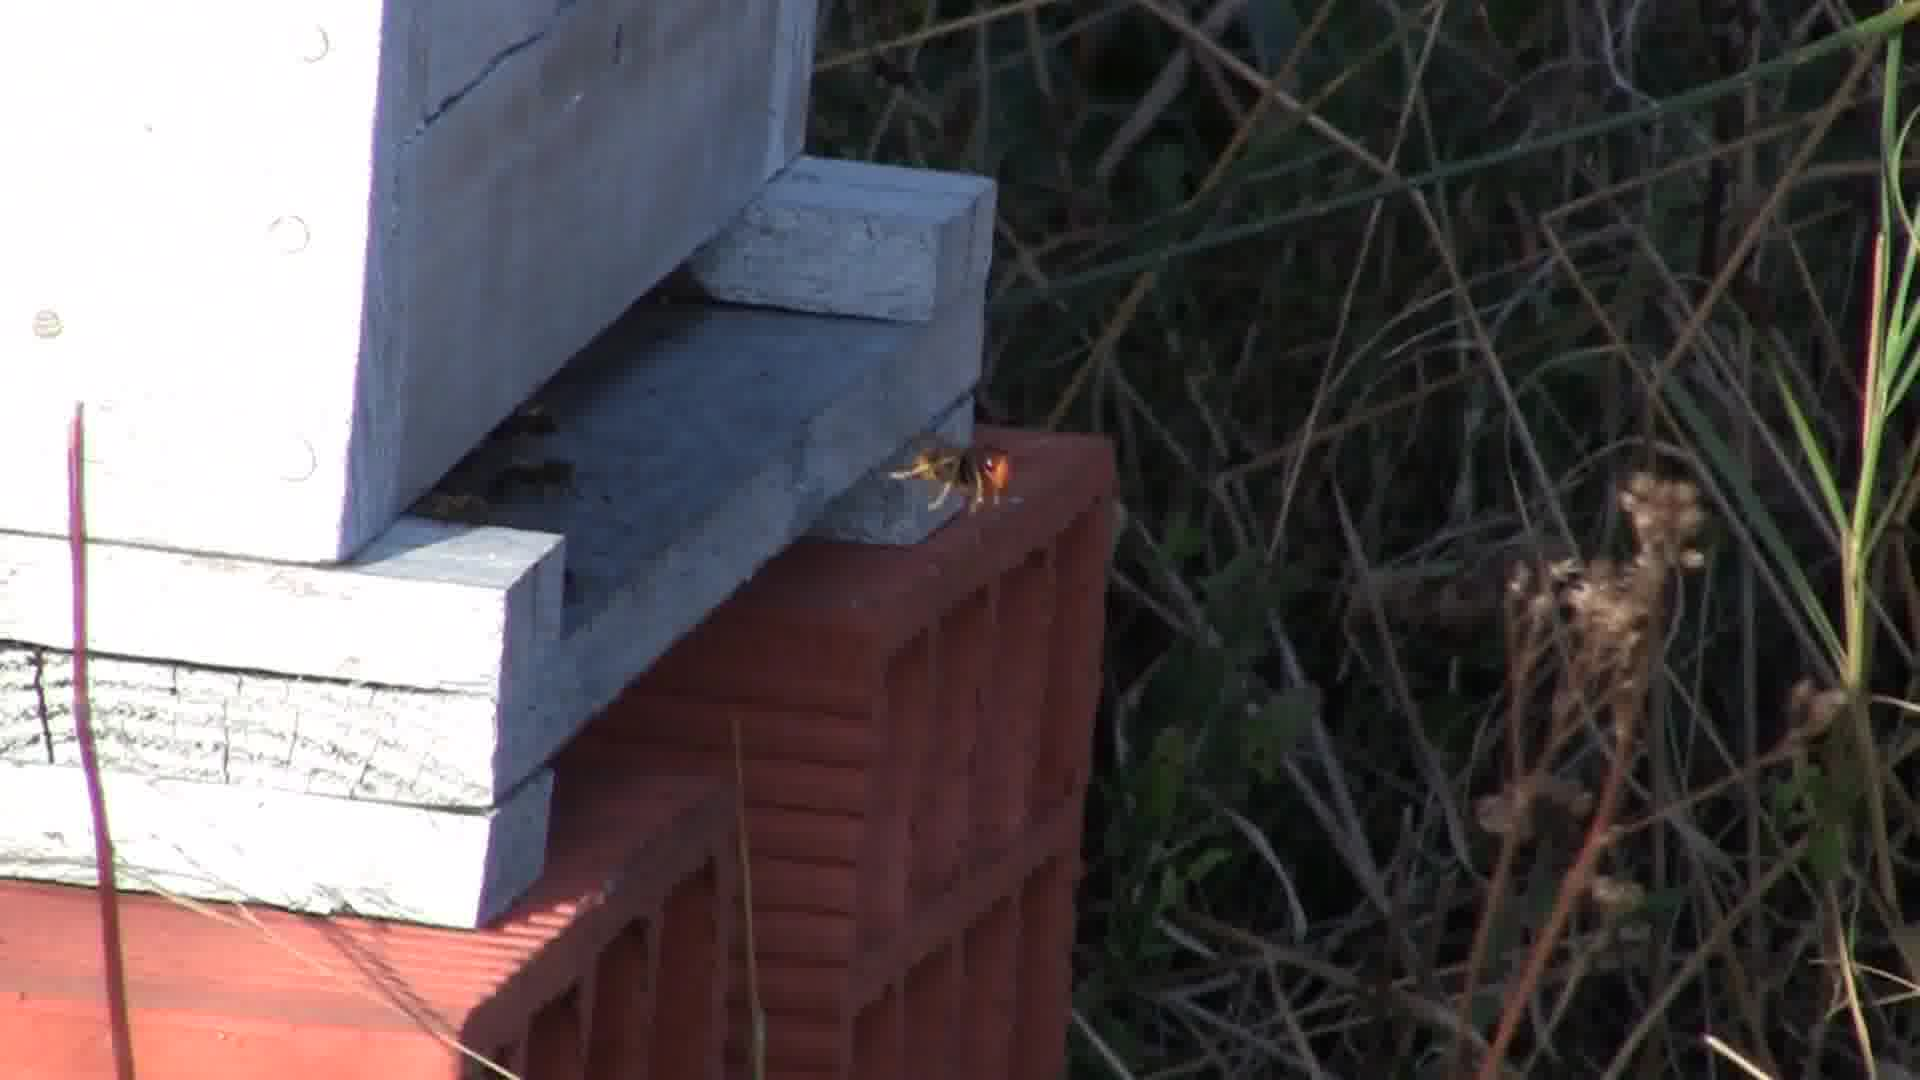bee: (493, 452, 585, 509)
hornet: (872, 419, 1039, 531)
